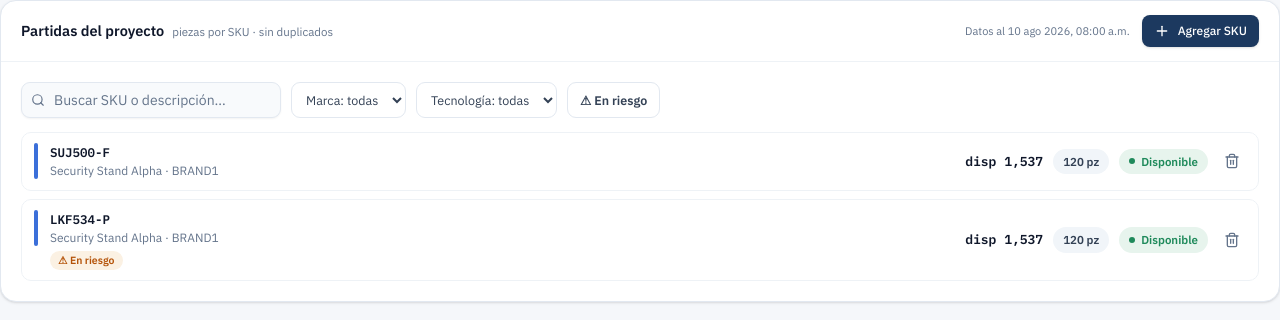
Test case: ProyectoPartidas › chip '⚠ En riesgo' filtra solo partida.en_riesgo, con aria-pressed reflejando el estado
Click the button "⚠ En riesgo". click: (614, 100)
box: [567,82,660,118]
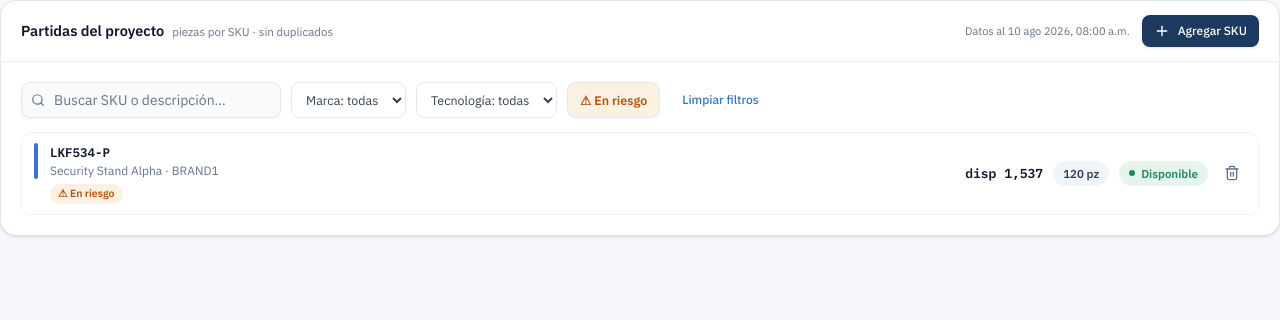
Expected: the text "LKF534-P" is shown, [50,144,110,160]
Expected: the text "SUJ500-F" is gone
